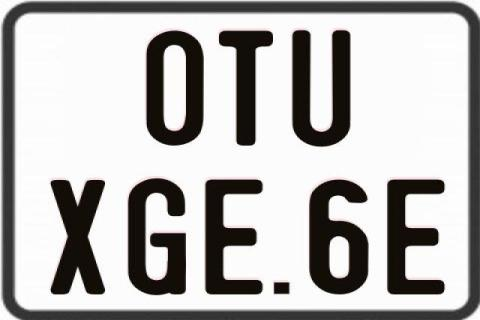0: (144, 28, 204, 145), (307, 177, 366, 292)
E: (384, 177, 446, 295), (205, 177, 263, 297)
G: (126, 178, 184, 296)
T: (216, 28, 274, 147)
U: (291, 30, 353, 150)
X: (48, 177, 109, 297)
